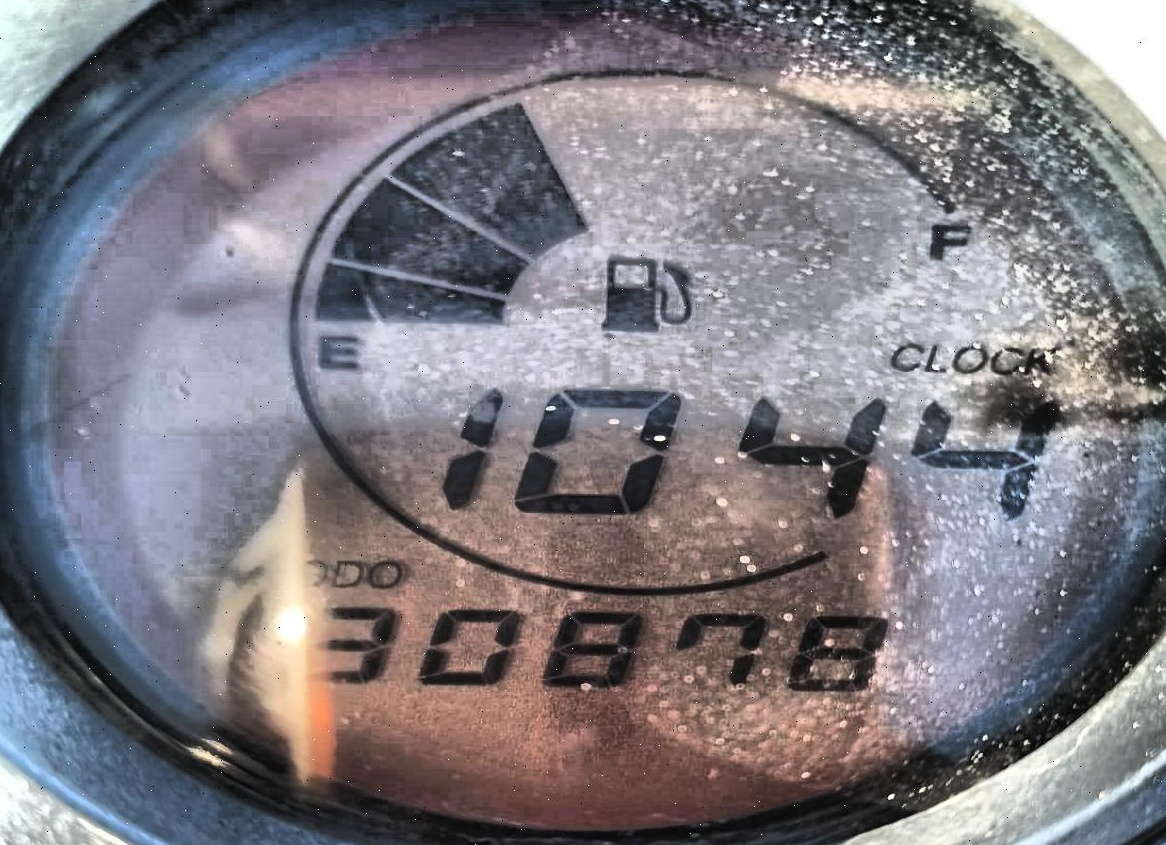0: (521, 384, 685, 517), (413, 608, 521, 685)
1: (433, 381, 501, 509)
3: (298, 606, 396, 684)
4: (736, 393, 887, 520), (913, 397, 1054, 522)
7: (671, 611, 767, 686)
8: (782, 613, 888, 692), (540, 608, 644, 687)
X: (313, 328, 363, 373), (926, 220, 971, 261), (365, 559, 405, 589), (293, 558, 328, 588), (889, 342, 923, 371), (328, 559, 362, 588), (951, 346, 987, 371), (990, 347, 1022, 373), (1024, 347, 1055, 373), (923, 343, 948, 374)
